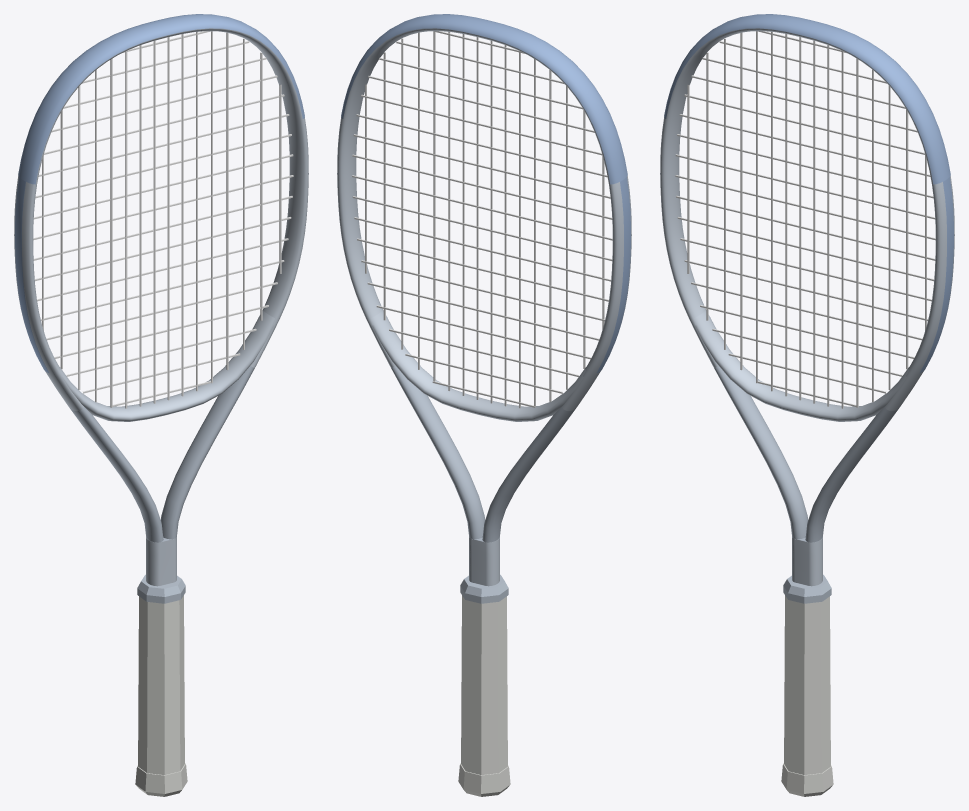
The model's file is yonex-muse-107-2026.glb.
3 views of the same model, side by side, from view 1: azimuth 30°, elevation 25°; view 2: azimuth 150°, elevation 25°; view 3: azimuth 330°, elevation 25° (orthographic).
Parts seen in each view (by area): view 1: frame, strings_mains, strings_crosses, grip, bumper, grommets, butt_cap, collar; view 2: frame, strings_mains, strings_crosses, grip, bumper, grommets, butt_cap, collar; view 3: frame, strings_mains, strings_crosses, grip, bumper, grommets, butt_cap, collar.
Part boxes in pixels (x1,y1,x2,y2): frame: (14,28,308,586); strings_mains: (42,31,281,408); strings_crosses: (33,31,293,406); grip: (138,595,184,774); bumper: (18,14,304,184); grommets: (15,177,48,372); butt_cap: (135,763,187,796); collar: (137,574,185,603); frame: (337,28,631,586); strings_mains: (365,31,604,408); strings_crosses: (352,31,612,407); grip: (461,595,507,774); bumper: (341,14,627,184); grommets: (597,177,630,372); butt_cap: (458,763,510,796); collar: (460,574,508,603); frame: (660,28,954,586); strings_mains: (687,31,926,408); strings_crosses: (675,31,935,406); grip: (784,595,830,774); bumper: (664,14,950,184); grommets: (920,177,953,372); butt_cap: (781,763,833,796); collar: (783,574,831,603).
Size of the model in its own units: 0.2701 by 0.6861 by 0.0396.
